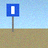sign: (6, 4, 19, 32)
